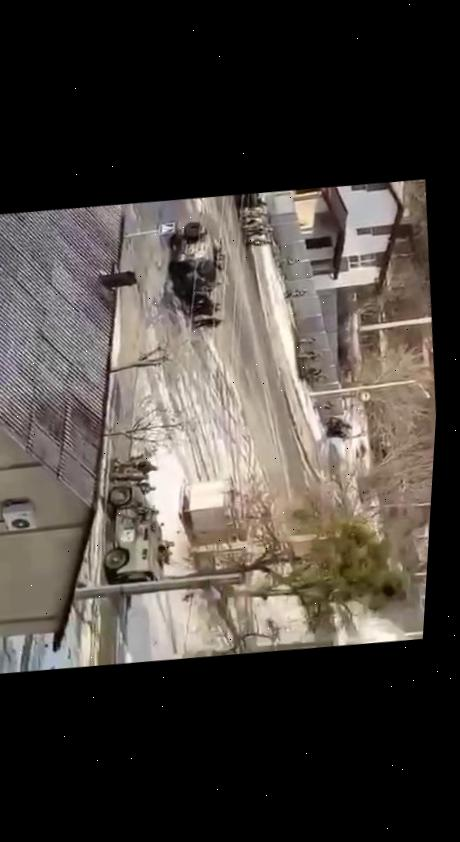armored_car: (95, 479, 179, 589), (162, 217, 224, 303)
person: (116, 450, 162, 475), (111, 466, 151, 486), (188, 313, 225, 330), (238, 222, 278, 236), (280, 282, 311, 299), (184, 302, 224, 315), (292, 347, 326, 360), (244, 234, 276, 247), (138, 480, 160, 496), (292, 332, 318, 344), (310, 397, 335, 409), (276, 254, 298, 267)
